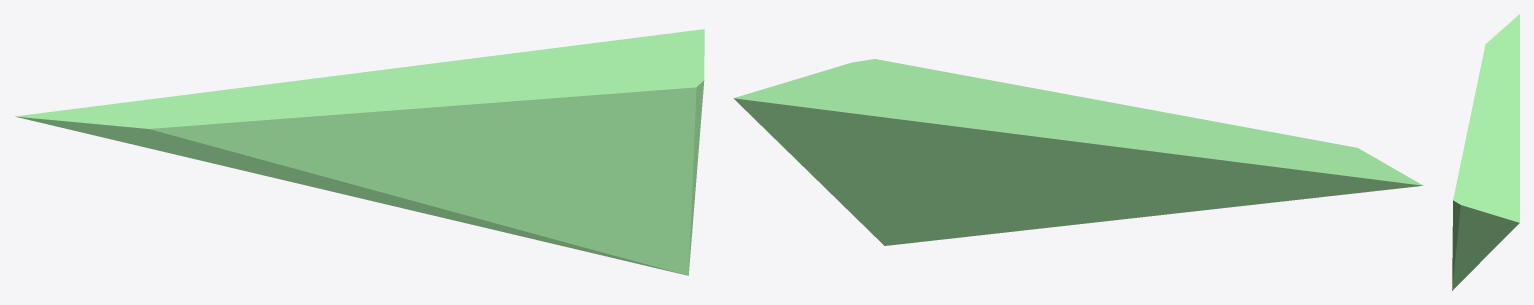
Rendered from UMIRobot_UMIRobot_link_2_convex_coll_35.dae.
3 views of the same model, side by side, from view 1: azimuth 30°, elevation 25°; view 2: azimuth 150°, elevation 25°; view 3: azimuth 270°, elevation 25° (orthographic). The views are drawn at different scales.
Visible parts, largest first — view 1: node; view 2: node; view 3: node.
Part boxes in pixels (left/top/right/bottom): node: left=15, top=29, right=704, bottom=275; node: left=733, top=59, right=1422, bottom=245; node: left=1452, top=14, right=1519, bottom=290.
Bounding box in the file's own units: 0.0606 × 0.0216 × 0.0103.
